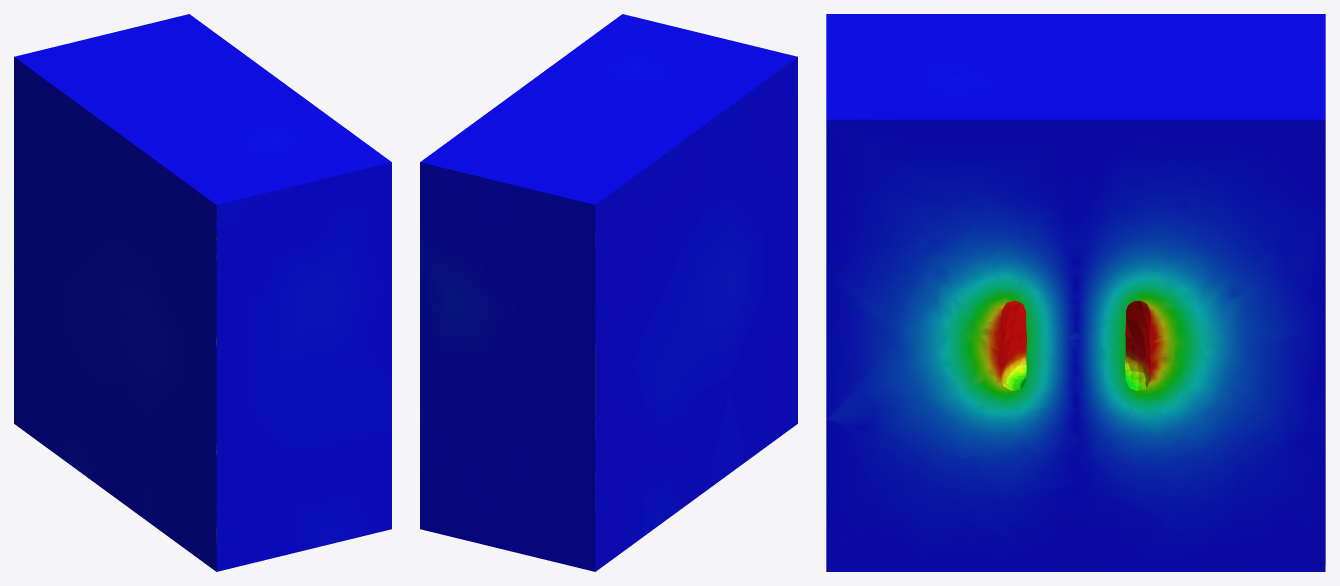
File: crop1.obj
3 views of the same model, side by side, from view 1: azimuth 30°, elevation 25°; view 2: azimuth 150°, elevation 25°; view 3: azimuth 270°, elevation 25° (orthographic). The views are drawn at different scales.
Parts seen in each view (by area): view 1: crop1; view 2: crop1; view 3: crop1.
Part boxes in pixels (x1,y1,x2,y2): crop1: (14,14,391,571); crop1: (420,14,797,571); crop1: (826,14,1325,571).
Bounding box in the file's own units: 10 × 20 × 20.
1 material, 1 textured.
